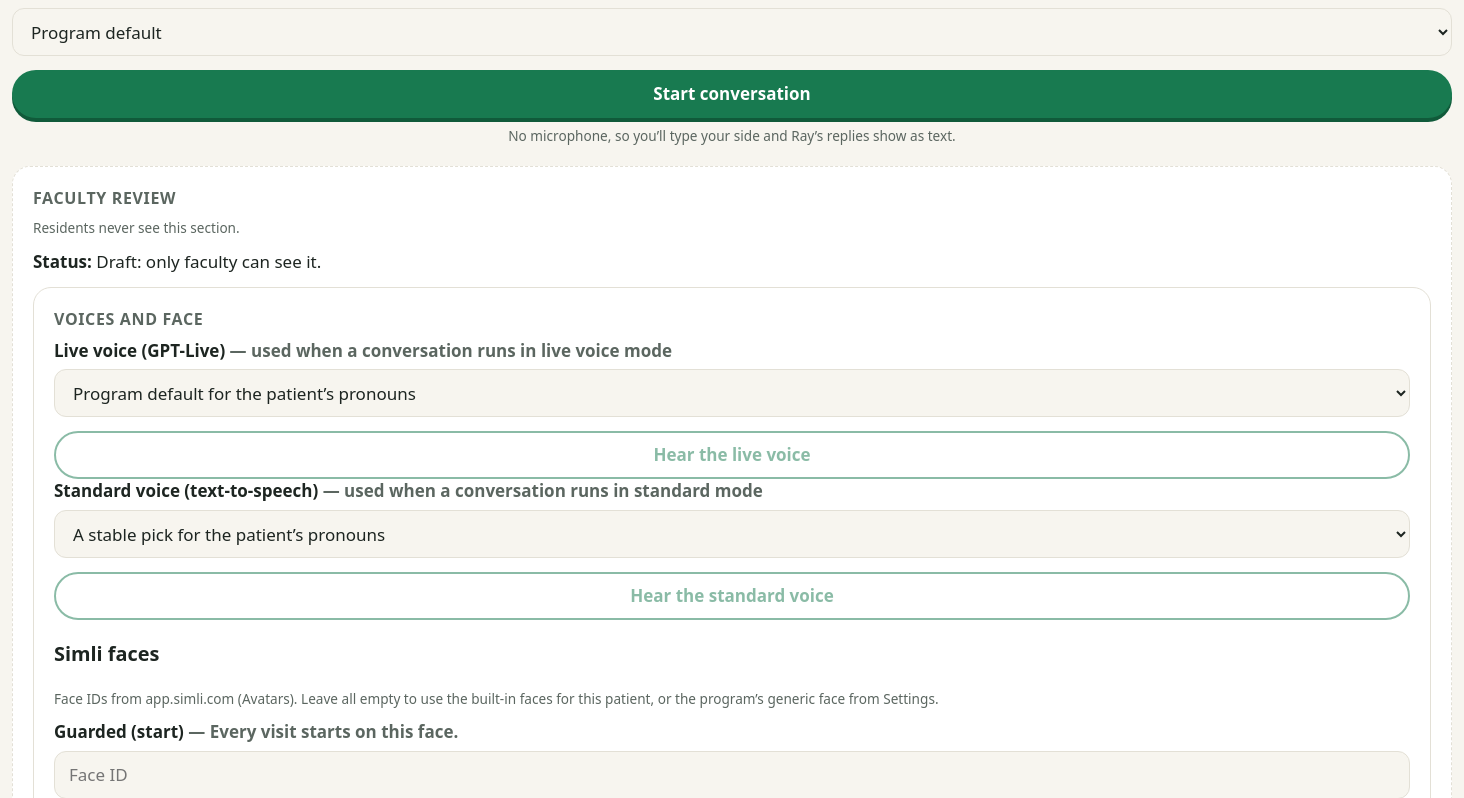
Test case: Briefing › lets faculty pick this patient’s GPT-Live voice, showing their voice tags
(page scrolled)
Select "stone (Male)" in the dropdown labelled "Live voice (GPT-Live)": (732, 393) x1=54 y1=369 x2=1410 y2=417
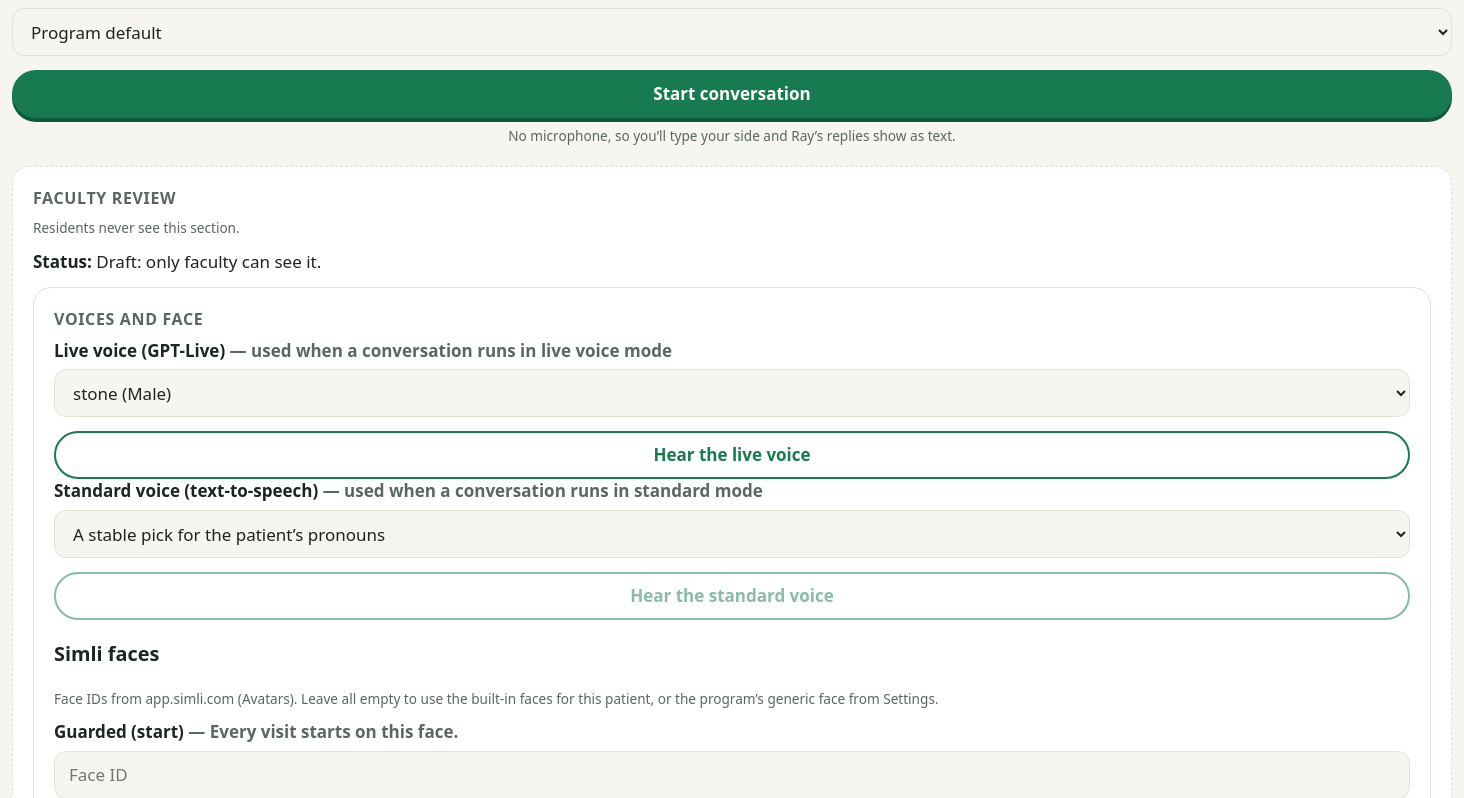
Expected: the heading "Voices and face" is shown, x1=54 y1=308 x2=203 y2=330
Now the button "Hear the live voice" is enabled, box x1=54 y1=431 x2=1410 y2=479
